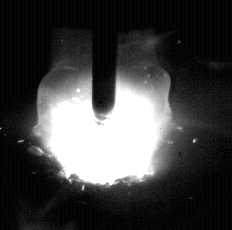arame: (92, 0, 117, 119)
poca: (37, 0, 173, 230)
